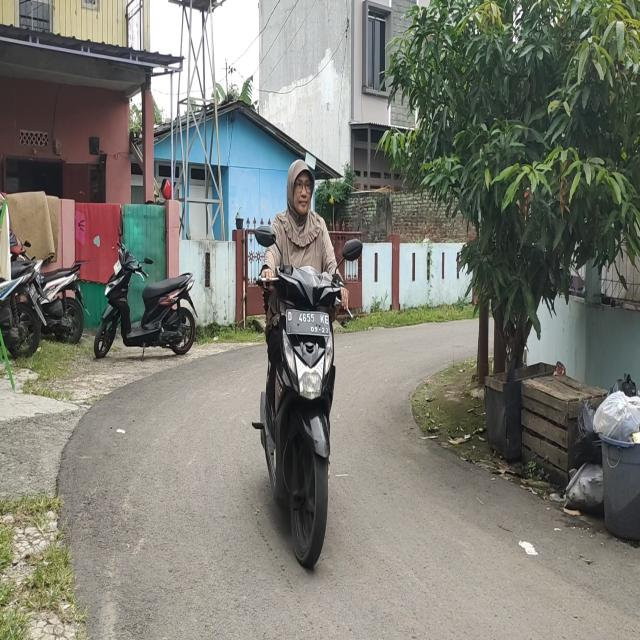no-helmet: (286, 158, 312, 221)
